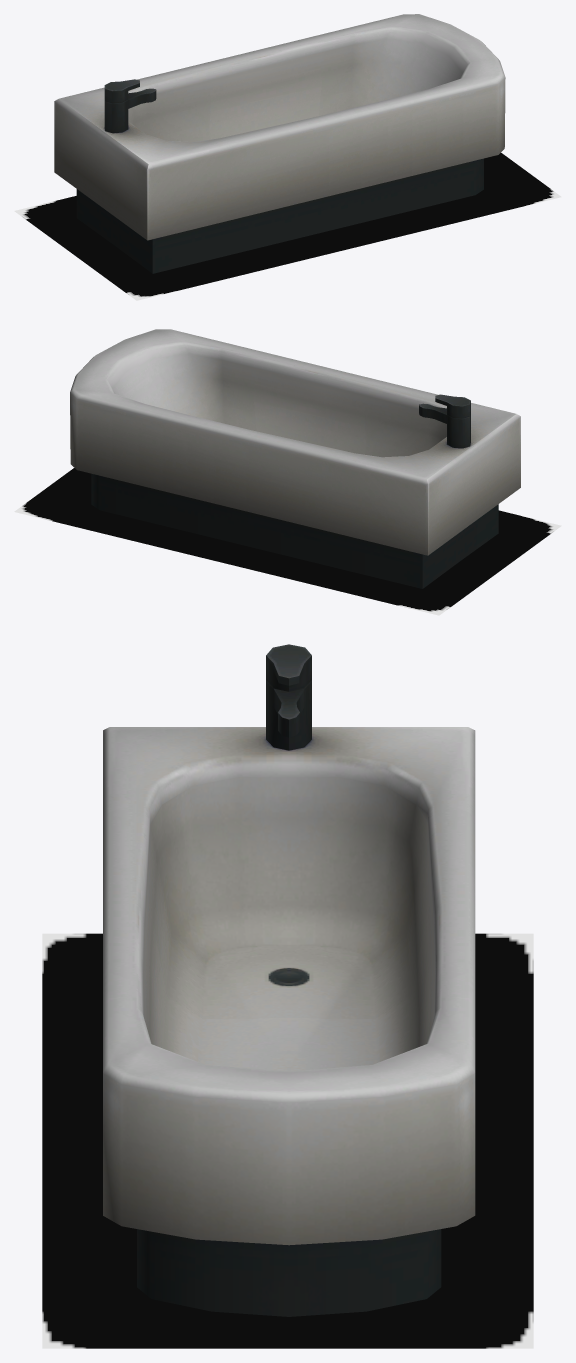
The model's file is jj_ty_bathtubs05_01.FBX.
3 renders of one model, top to bottom at view 1: azimuth 30°, elevation 25°; view 2: azimuth 150°, elevation 25°; view 3: azimuth 270°, elevation 25°, orthographic. The views are drawn at different scales.
Parts seen in each view (by area): view 1: jj_ty_bathtubs05_01, yinying; view 2: jj_ty_bathtubs05_01, yinying; view 3: jj_ty_bathtubs05_01, yinying.
Boxes of the visible parts, x1,y1,x2,y2 form: jj_ty_bathtubs05_01: (54,14,505,273); yinying: (14,153,561,300); jj_ty_bathtubs05_01: (70,329,520,588); yinying: (14,468,561,615); jj_ty_bathtubs05_01: (103,644,475,1316); yinying: (42,933,533,1348).
Bounding box in the file's own units: 93.1 × 33.34 × 46.55.
Materials: 2 (2 with a texture image).
